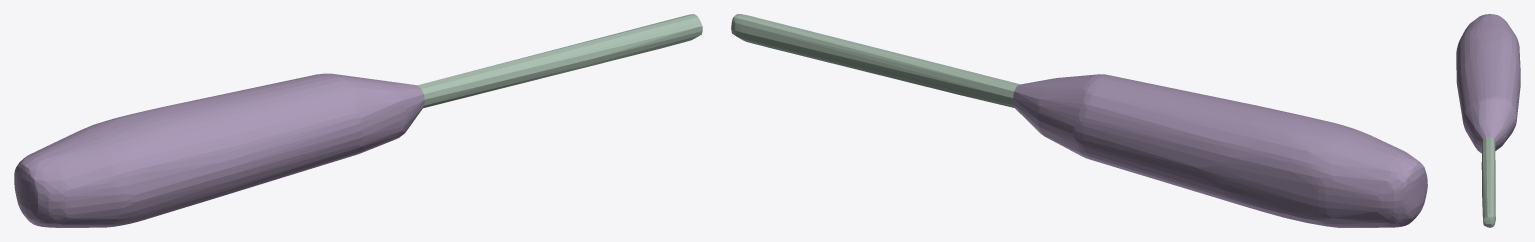
The model's file is long_screwdriver-collision.glb.
3 renders of one model, left to right at view 1: azimuth 30°, elevation 25°; view 2: azimuth 150°, elevation 25°; view 3: azimuth 270°, elevation 25°, orthographic. The views are drawn at different scales.
Visible parts, largest first — view 1: long_screwdriver_collision1_0, long_screwdriver_collision0_0; view 2: long_screwdriver_collision1_0, long_screwdriver_collision0_0; view 3: long_screwdriver_collision1_0, long_screwdriver_collision0_0.
Boxes of the visible parts, bbox=[...] form: long_screwdriver_collision1_0: bbox=[14, 73, 424, 227]; long_screwdriver_collision0_0: bbox=[418, 14, 702, 108]; long_screwdriver_collision1_0: bbox=[1013, 74, 1427, 227]; long_screwdriver_collision0_0: bbox=[731, 14, 1020, 107]; long_screwdriver_collision1_0: bbox=[1456, 14, 1520, 153]; long_screwdriver_collision0_0: bbox=[1481, 137, 1495, 227].
Bounding box in the file's own units: 0.263 × 0.0327 × 0.0365.
